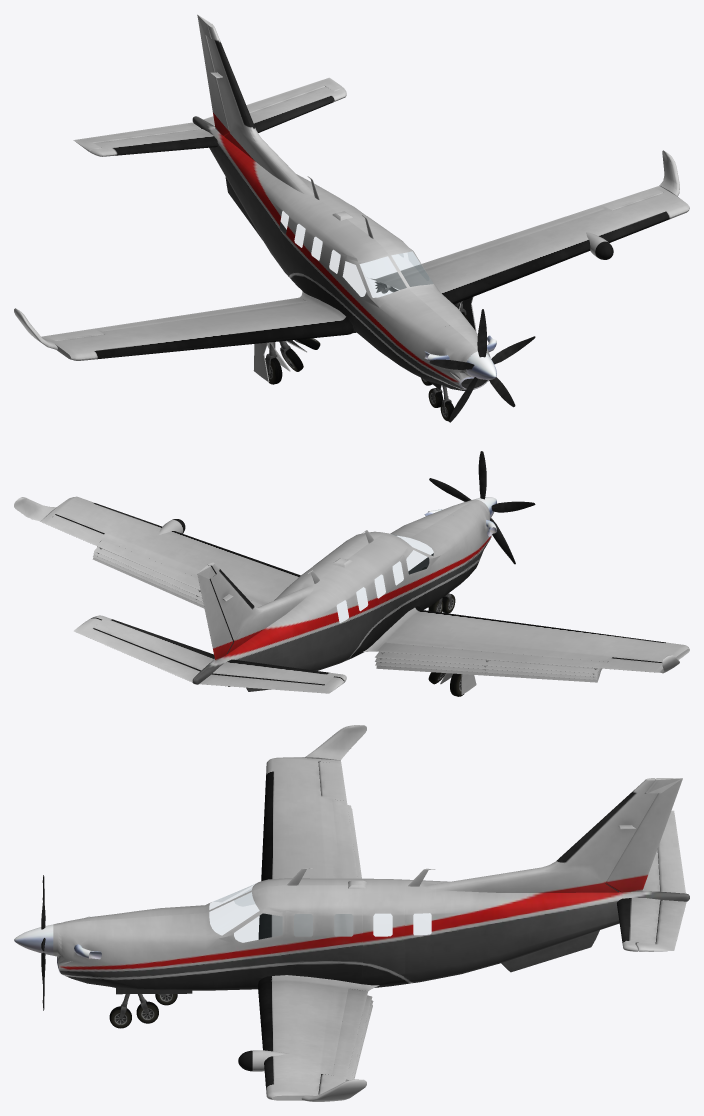
3 renders of one model, top to bottom at view 1: azimuth 30°, elevation 25°; view 2: azimuth 150°, elevation 25°; view 3: azimuth 270°, elevation 25°, orthographic. The views are drawn at different scales.
Parts seen in each view (by area): view 1: Exterior, Pose_flaps_0, Pose_gear_3, XLive_2, XLive_3, XLive_4, Pose_gear_2; view 2: Exterior, Pose_flaps_0, Pose_flaps_1, XLive_4, XLive_2, XLive_3, Pose_flaps_2, Pose_flaps_4, Pose_flaps_3, XLive_1, Pose_gear_3, XLive_0; view 3: Exterior, XLive_2, Pose_flaps_0, XLive_3, XLive_4, XLive_0, Pose_flaps_1, Pose_gear_2.
Part boxes in pixels (x1,y1,x2,y2): Exterior: [14, 23, 689, 422]; Pose_flaps_0: [96, 206, 604, 331]; Pose_gear_3: [253, 297, 476, 421]; XLive_2: [197, 14, 229, 136]; XLive_3: [73, 122, 200, 151]; XLive_4: [203, 77, 343, 125]; Pose_gear_2: [267, 301, 462, 407]; Exterior: [14, 451, 689, 691]; Pose_flaps_0: [96, 539, 604, 669]; Pose_flaps_1: [94, 547, 599, 674]; XLive_4: [73, 618, 200, 682]; XLive_2: [197, 565, 232, 661]; XLive_3: [199, 674, 344, 693]; Pose_flaps_2: [93, 551, 599, 677]; Pose_flaps_4: [92, 546, 601, 682]; Pose_flaps_3: [93, 554, 601, 679]; XLive_1: [45, 515, 103, 544]; Pose_gear_3: [442, 593, 476, 696]; XLive_0: [601, 658, 662, 672]; Exterior: [14, 725, 689, 1101]; XLive_2: [605, 778, 682, 892]; Pose_flaps_0: [332, 799, 367, 1075]; XLive_3: [657, 810, 685, 893]; XLive_4: [635, 900, 686, 951]; XLive_0: [318, 762, 346, 799]; Pose_flaps_1: [346, 805, 372, 1080]; Pose_gear_2: [123, 988, 181, 1023].
Size of the model in its own units: 13.32 by 4.35 by 10.68.
Materials: 3 (3 with a texture image).
